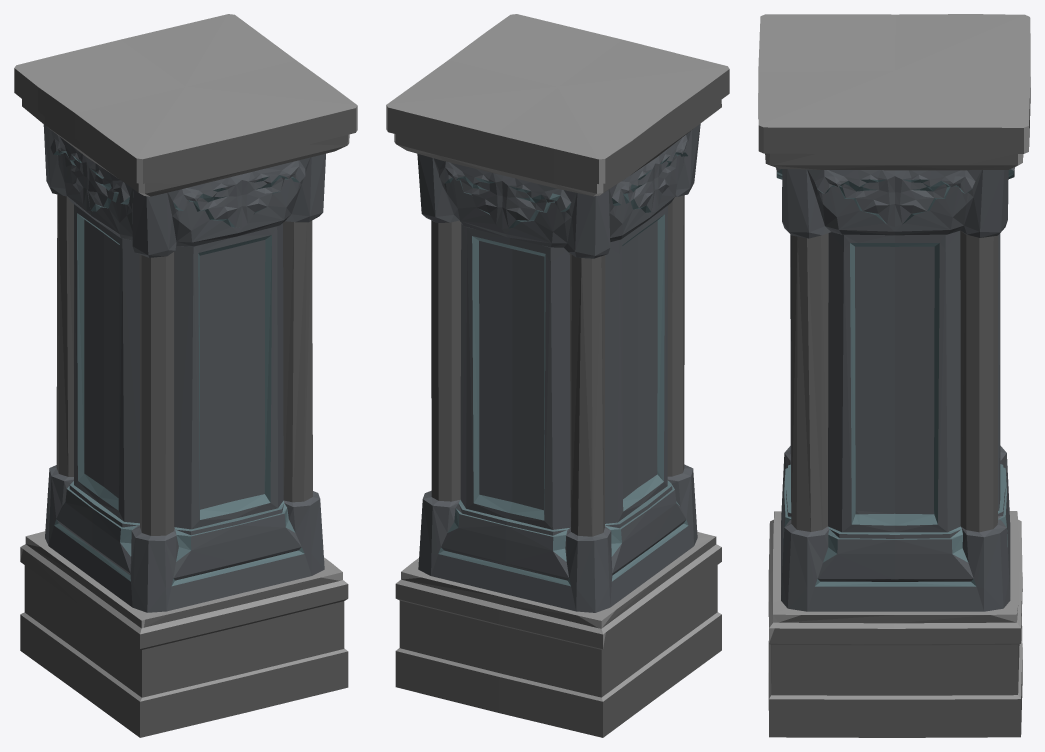
Rendered from MCastle_GiantPillar_01.FBX.
The picture shows the model from 3 angles, left to right: view 1: azimuth 30°, elevation 25°; view 2: azimuth 150°, elevation 25°; view 3: azimuth 270°, elevation 25°; orthographic projection. The views are drawn at different scales.
Parts seen in each view (by area): view 1: MCastle_GiantPillar_01_LOD0; view 2: MCastle_GiantPillar_01_LOD0; view 3: MCastle_GiantPillar_01_LOD0.
Part boxes in pixels (box(x1,y1,x2,y2)): MCastle_GiantPillar_01_LOD0: box(14, 14, 357, 737); MCastle_GiantPillar_01_LOD0: box(386, 14, 729, 737); MCastle_GiantPillar_01_LOD0: box(758, 14, 1030, 737).
Size of what is drawn, in the model's own units: 2.71 by 6.8 by 2.74.
